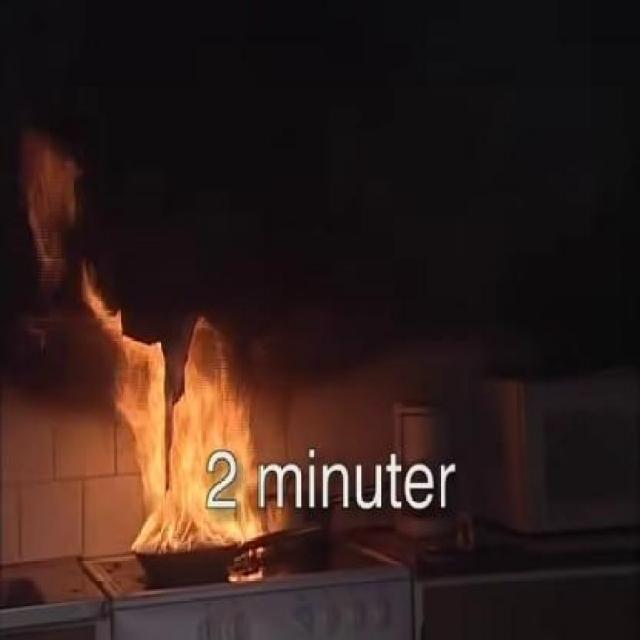fire: (118, 326, 258, 565)
smoke: (26, 132, 189, 222)
